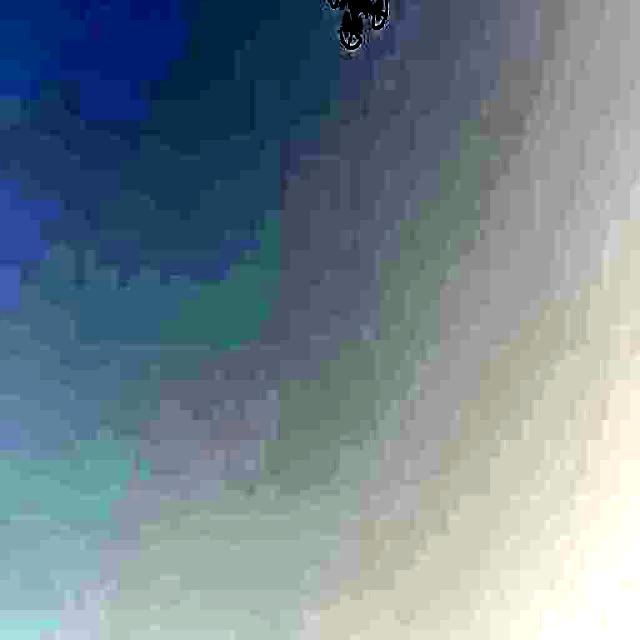bird: (318, 0, 400, 54)
